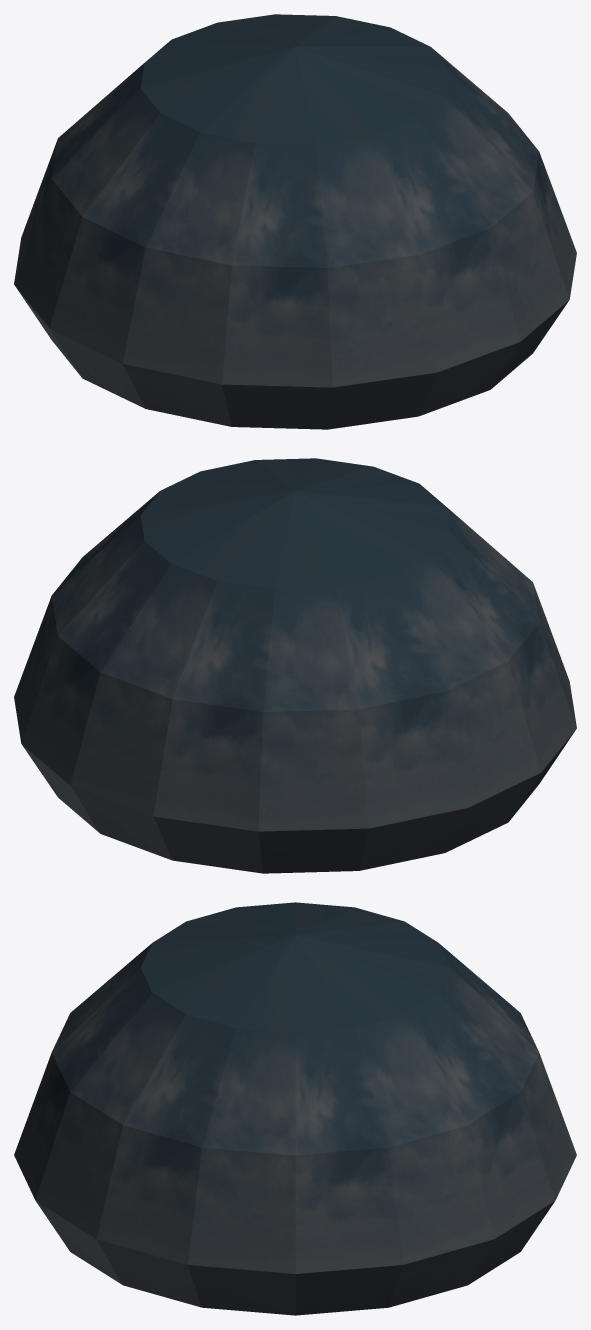
3 views of the same model, one above another, from view 1: azimuth 30°, elevation 25°; view 2: azimuth 150°, elevation 25°; view 3: azimuth 270°, elevation 25° (orthographic).
Parts seen in each view (by area): view 1: mesh00; view 2: mesh00; view 3: mesh00.
Boxes of the visible parts, x1,y1,x2,y2 form: mesh00: (14,14,576,429); mesh00: (14,458,576,873); mesh00: (14,902,576,1315).
Size of the model in its own units: 99001 by 53769 by 99001.
Materials: 1 (1 with a texture image).
